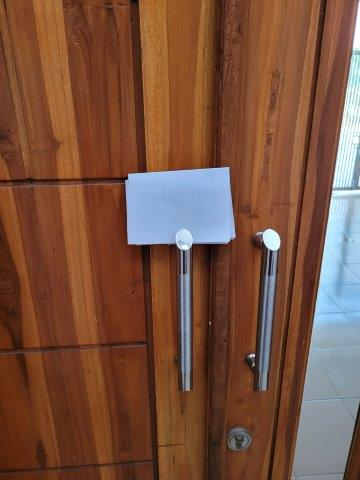kertas: (124, 165, 235, 245)
